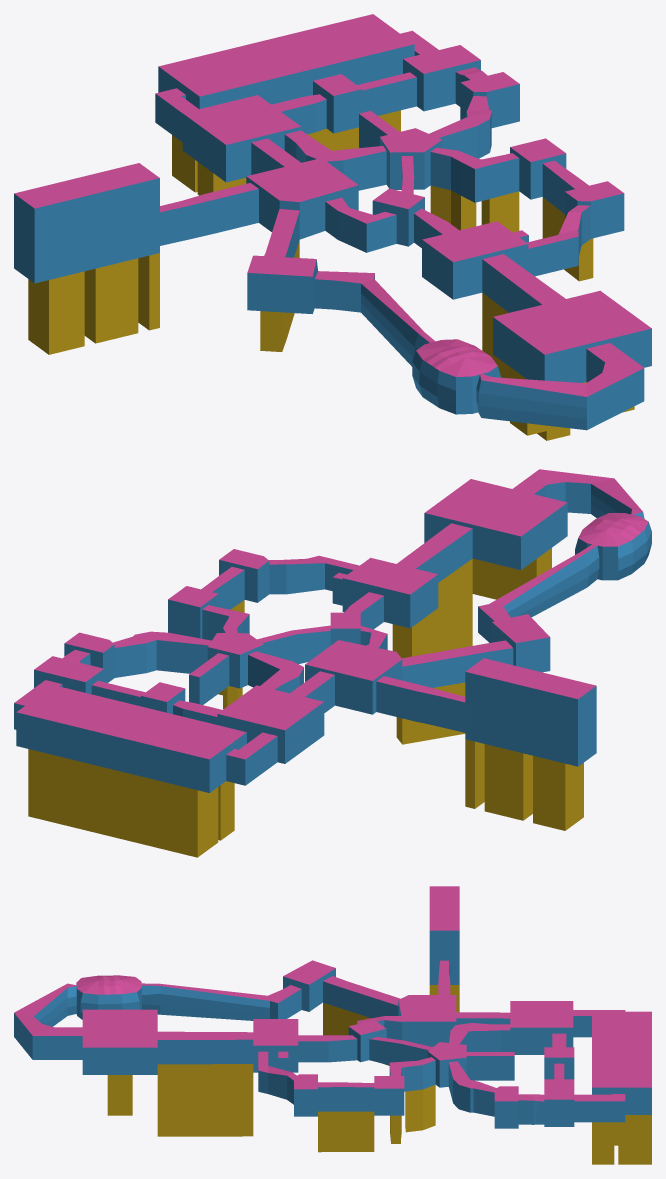
File: maybe_no_floors2.fbx
The picture shows the model from 3 angles, top to bottom: view 1: azimuth 30°, elevation 25°; view 2: azimuth 150°, elevation 25°; view 3: azimuth 270°, elevation 25°; orthographic projection. The views are drawn at different scales.
Parts seen in each view (by area): view 1: fire_tele_corner_room; view 2: fire_tele_corner_room; view 3: fire_tele_corner_room.
Boxes of the visible parts, bbox=[...] form: fire_tele_corner_room: bbox=[14, 14, 651, 440]; fire_tele_corner_room: bbox=[14, 469, 651, 857]; fire_tele_corner_room: bbox=[14, 886, 651, 1164].
Bounding box in the file's own units: 14805 × 4661 × 21244.
